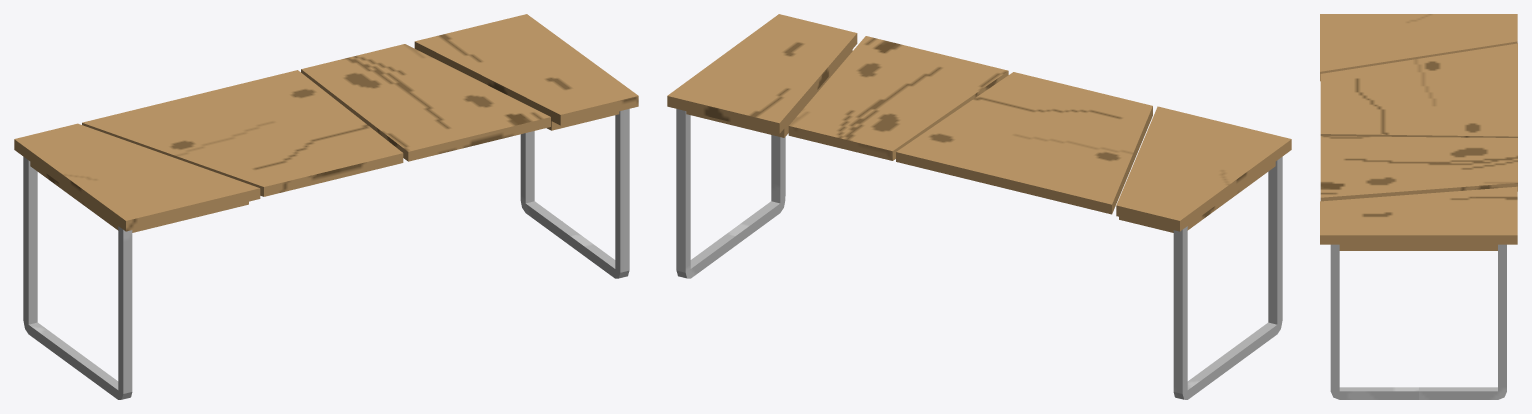
The model's file is Desk.fbx.
The picture shows the model from 3 angles, left to right: view 1: azimuth 30°, elevation 25°; view 2: azimuth 150°, elevation 25°; view 3: azimuth 270°, elevation 25°; orthographic projection. The views are drawn at different scales.
Visible parts, largest first — view 1: polySurface3, polySurface12, polySurface9, polySurface1; view 2: polySurface3, polySurface12, polySurface9, polySurface1; view 3: polySurface9, polySurface3, polySurface1, polySurface12.
Part boxes in pixels (x1,y1,x2,y2): polySurface3: [82, 70, 403, 196]; polySurface12: [14, 123, 260, 399]; polySurface9: [414, 14, 638, 278]; polySurface1: [301, 44, 550, 161]; polySurface3: [896, 72, 1152, 214]; polySurface12: [1116, 106, 1291, 399]; polySurface9: [667, 14, 857, 278]; polySurface1: [788, 36, 1008, 160]; polySurface9: [1320, 186, 1517, 399]; polySurface3: [1320, 43, 1517, 137]; polySurface1: [1320, 136, 1517, 201]; polySurface12: [1320, 14, 1517, 81].
Bounding box in the file's own units: 462 × 162 × 175.
